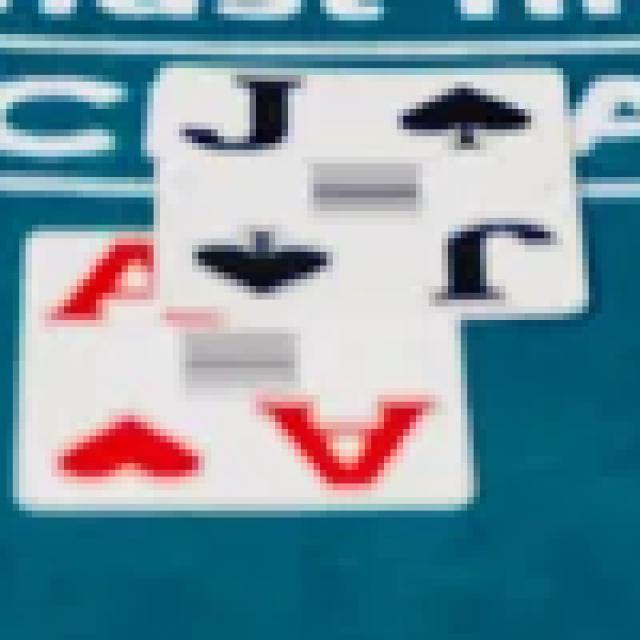Card-A: (20, 230, 468, 511)
Card-J: (162, 64, 582, 327)
